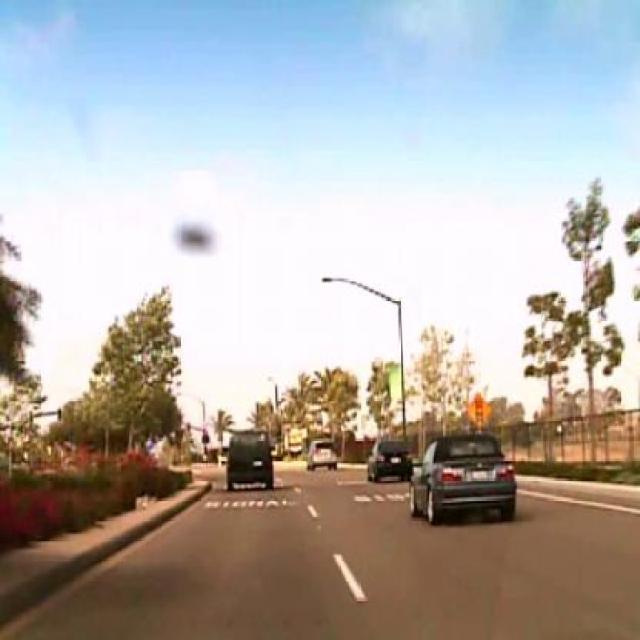signalAhead: (465, 392, 492, 431)
